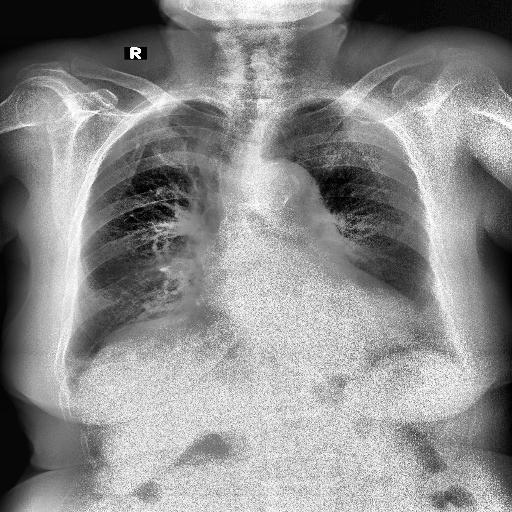0- Aortic enlargement: (233, 158, 320, 230), (232, 156, 324, 222), (248, 162, 334, 226)
3- Cardiomegaly: (192, 275, 422, 353), (189, 286, 435, 356), (188, 296, 424, 354)
